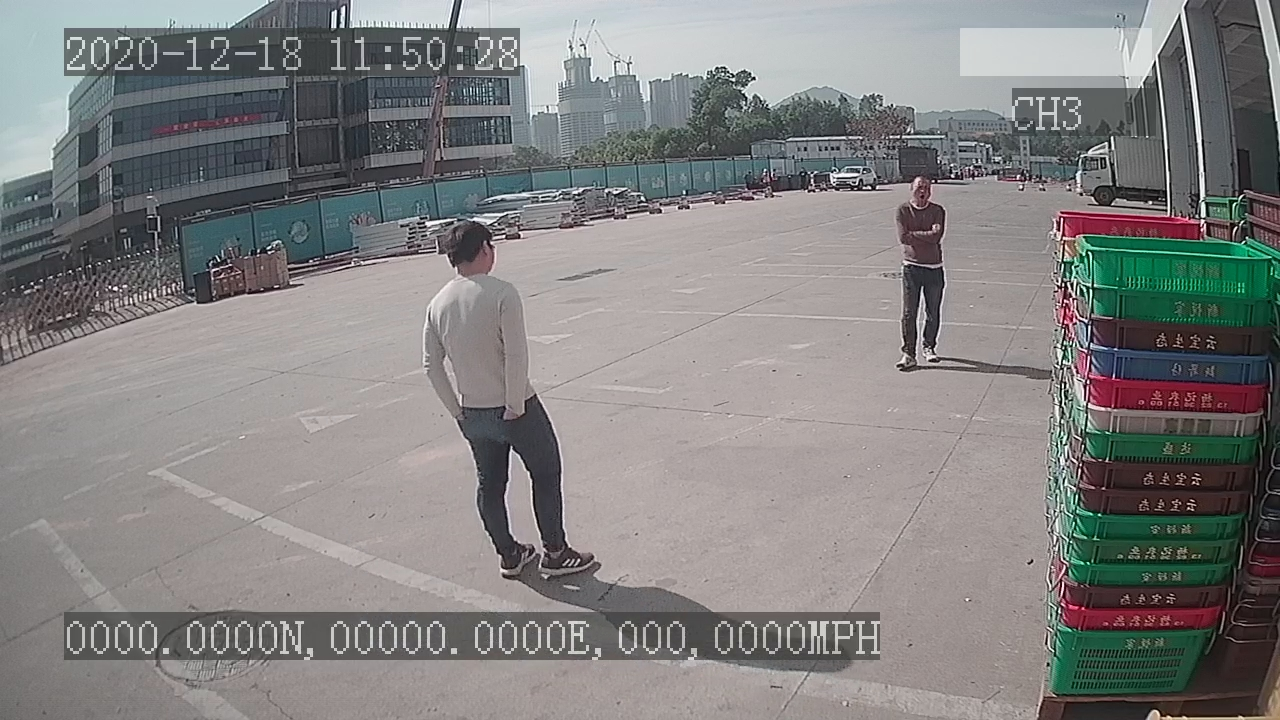person: (417, 219, 606, 585), (888, 172, 949, 378)
